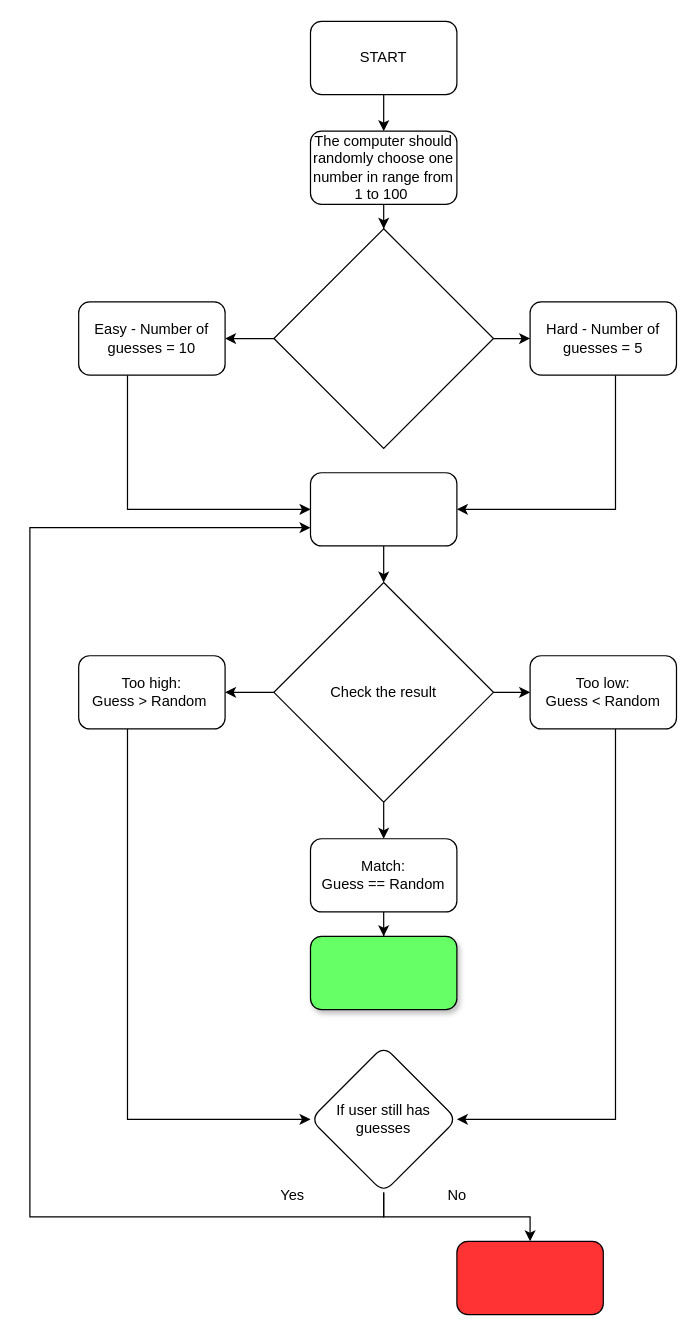
Some shapes in this 698 by 1336 pixel diagram are drawn without their labels. The shapes that lost their labels are listed below. From the top down, each one's centre as x and y in pixels, then its label:
the point at 383,338: The user should choose the game level
the point at 383,509: The user should make a guess
the point at 384,974: User win, end the game
the point at 529,1277: User loose, end the game
